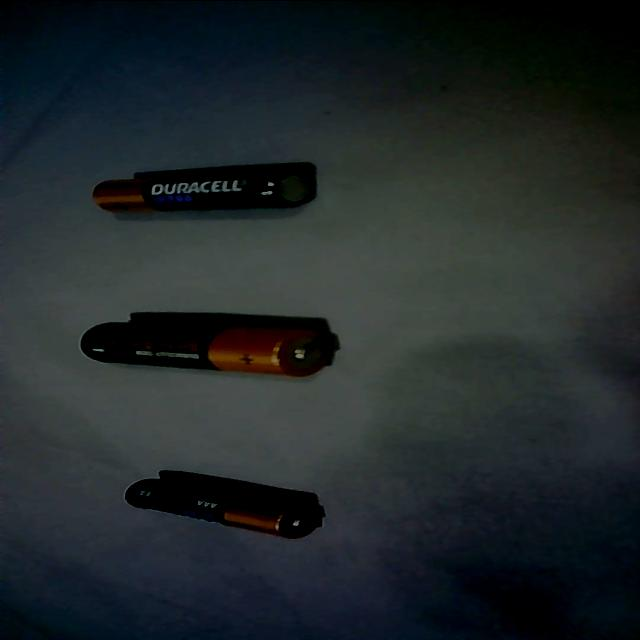AA: (73, 310, 341, 382)
AAA: (122, 471, 326, 541), (84, 163, 320, 213)
